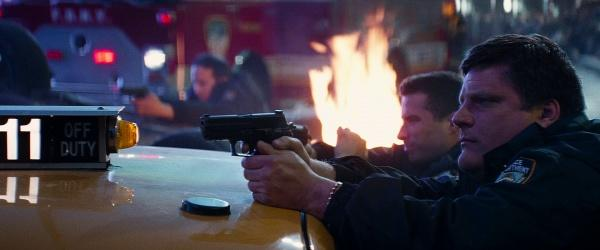Gun: (200, 111, 290, 154)
